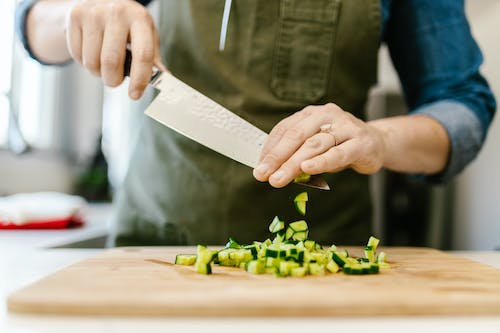knife: (143, 62, 331, 191)
